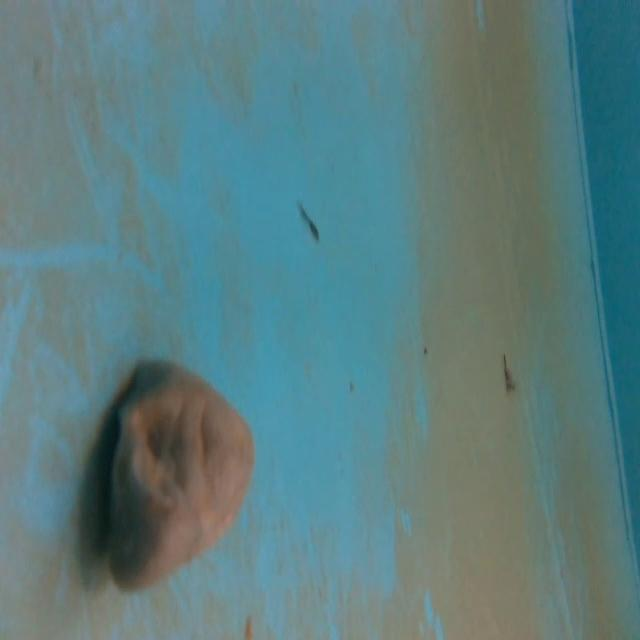rock: (98, 351, 261, 600)
